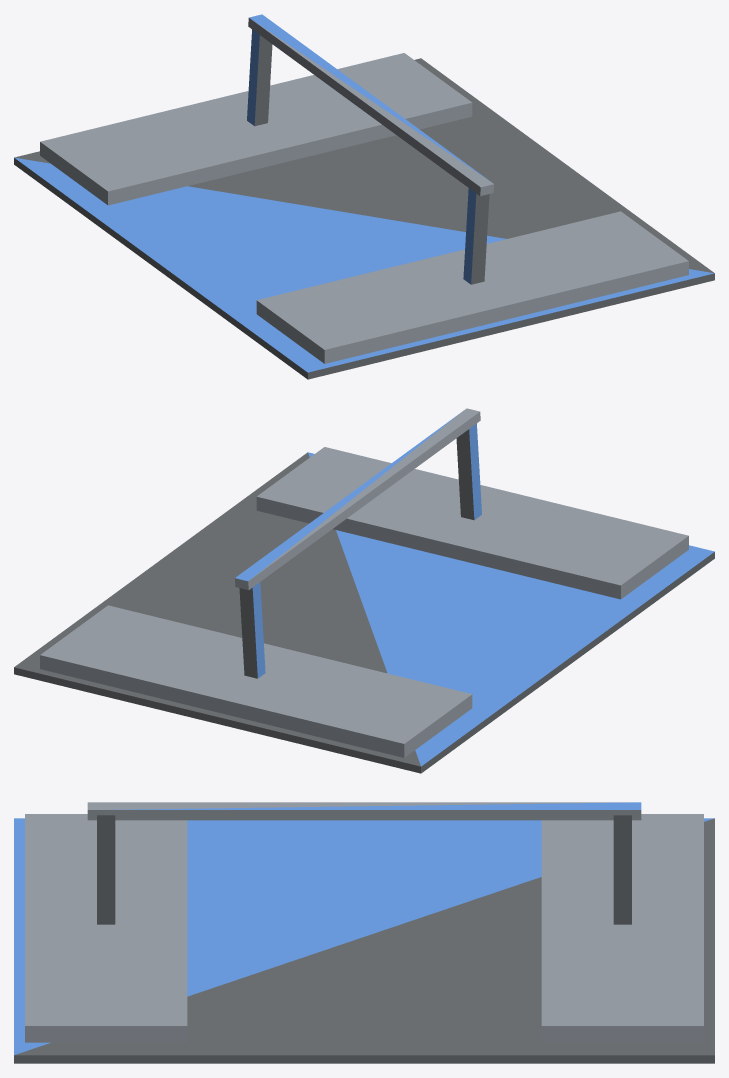
File: veyran_shipyard_heavily_damaged.glb
The picture shows the model from 3 angles, top to bottom: view 1: azimuth 30°, elevation 25°; view 2: azimuth 150°, elevation 25°; view 3: azimuth 270°, elevation 25°; orthographic projection. The views are drawn at different scales.
Visible parts, largest first — view 1: hull, crane; view 2: hull, crane; view 3: hull, crane.
Boxes of the visible parts, x1=… form: hull: x1=14, y1=53, x2=714, y2=379; crane: x1=247, y1=14, x2=494, y2=284; hull: x1=14, y1=447, x2=714, y2=773; crane: x1=234, y1=408, x2=481, y2=678; hull: x1=14, y1=814, x2=714, y2=1063; crane: x1=87, y1=802, x2=641, y2=924.
Bounding box in the file's own units: 15.2 × 4.28 × 19.
